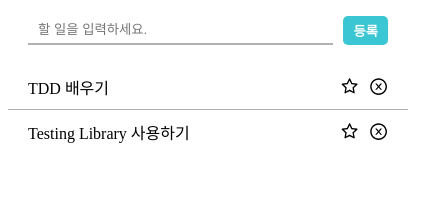
Test: <TaskApp /> › creates new task
Step 1. Type "새 항목 입력" into the field with placeholder "할 일을 입력하세요." → x=181, y=30, box left=28, top=16, right=334, bottom=45
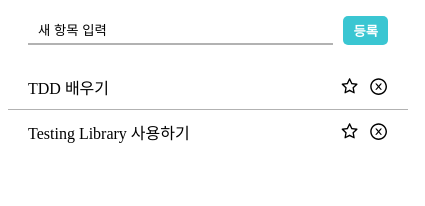
Step 2. Click the button "등록" → x=366, y=30, box left=344, top=16, right=388, bottom=45
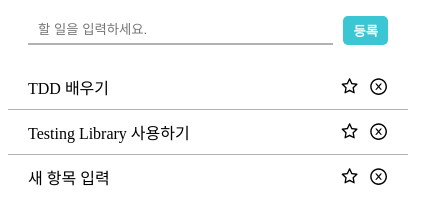
Expected: the text "새 항목 입력" is shown, left=28, top=165, right=110, bottom=189
